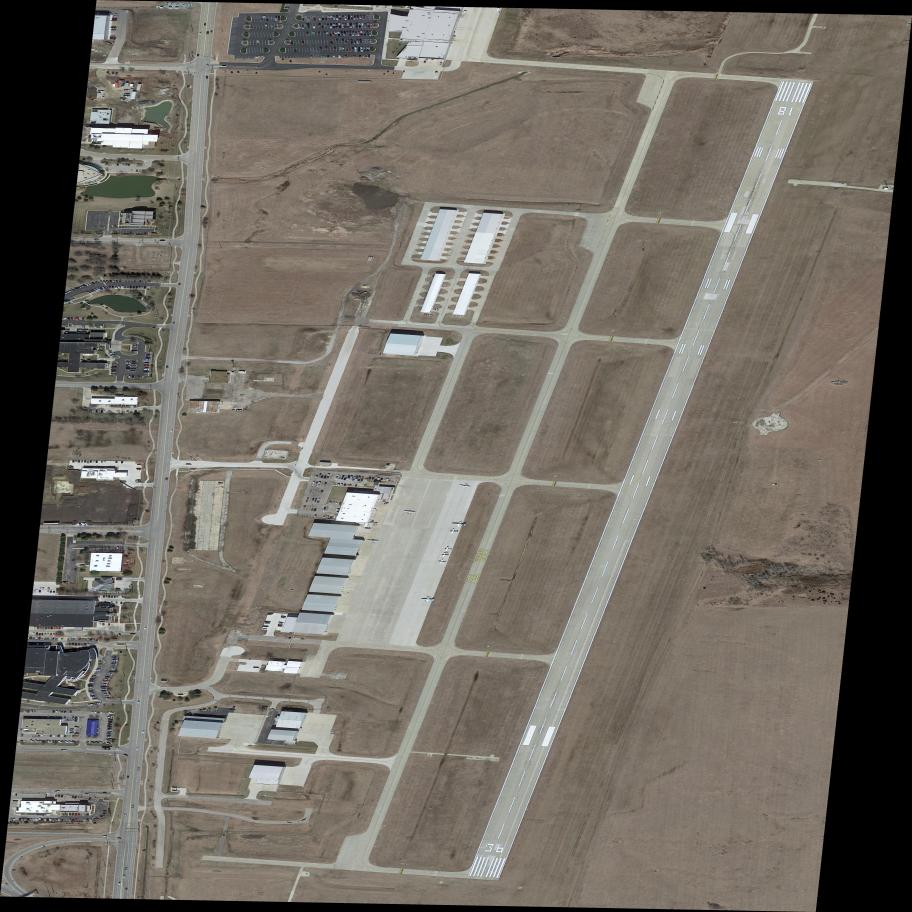plane: (450, 520, 468, 528), (420, 596, 436, 603), (458, 483, 473, 489), (366, 538, 380, 544), (436, 558, 448, 565), (448, 528, 460, 534), (443, 546, 454, 552), (440, 552, 450, 558), (403, 510, 417, 514), (431, 308, 440, 313)
small-vehicle: (383, 501, 389, 506), (29, 738, 35, 743), (373, 521, 378, 527), (94, 740, 100, 745), (106, 740, 112, 745), (123, 753, 130, 757), (85, 282, 90, 287), (99, 279, 104, 284), (72, 739, 77, 744), (463, 9, 467, 15), (76, 286, 82, 290), (91, 289, 97, 293), (86, 291, 92, 295), (67, 289, 73, 293), (96, 287, 102, 291), (64, 740, 70, 744), (98, 740, 104, 744), (67, 740, 73, 744), (116, 836, 122, 840), (106, 736, 113, 739), (106, 715, 113, 718), (98, 815, 105, 818), (105, 734, 112, 737), (106, 727, 113, 730), (108, 352, 115, 355), (317, 483, 321, 488), (314, 474, 318, 479), (439, 61, 443, 66), (423, 59, 427, 64), (99, 287, 104, 291), (91, 281, 96, 285), (70, 288, 75, 292), (88, 282, 93, 286), (314, 497, 318, 502), (93, 288, 98, 292), (101, 286, 106, 290), (57, 739, 62, 743), (38, 739, 43, 743), (34, 739, 39, 743), (124, 866, 128, 871), (42, 739, 47, 743), (107, 730, 112, 734), (90, 740, 95, 744), (110, 711, 115, 715), (106, 737, 111, 741), (78, 522, 82, 527), (82, 522, 86, 527), (73, 287, 79, 290), (77, 285, 83, 288), (96, 90, 105, 92), (69, 731, 75, 734), (106, 732, 112, 735), (106, 729, 112, 732), (95, 817, 101, 820), (107, 724, 113, 727), (107, 722, 113, 725), (107, 720, 113, 723), (54, 790, 60, 793), (110, 354, 116, 357), (345, 477, 349, 481), (323, 475, 327, 479), (320, 475, 324, 479), (313, 500, 317, 504), (317, 497, 321, 501), (341, 25, 345, 29), (329, 25, 333, 29), (363, 528, 371, 530), (108, 285, 112, 289), (95, 280, 99, 284), (106, 279, 110, 283), (311, 497, 315, 501), (325, 509, 329, 513), (322, 509, 326, 513), (368, 476, 372, 480), (313, 508, 317, 512), (264, 621, 272, 623), (344, 55, 348, 59), (101, 94, 105, 98), (357, 46, 361, 50), (57, 734, 61, 738), (54, 740, 58, 744), (86, 637, 90, 641), (328, 472, 331, 477), (82, 284, 87, 287), (80, 285, 85, 288), (89, 290, 94, 293), (65, 291, 70, 294), (93, 818, 98, 821), (120, 286, 125, 289), (123, 95, 130, 97), (106, 673, 113, 675), (61, 749, 68, 751), (102, 693, 109, 695), (90, 696, 97, 698), (89, 694, 96, 696), (89, 695, 96, 697), (101, 688, 108, 690), (87, 686, 94, 688), (105, 697, 112, 699), (87, 684, 94, 686), (101, 835, 108, 837), (106, 726, 113, 728), (144, 365, 151, 367), (144, 360, 151, 362), (94, 669, 101, 671), (112, 657, 119, 659), (337, 482, 340, 486), (355, 478, 358, 482), (377, 477, 381, 480), (356, 475, 359, 479), (353, 475, 356, 479), (335, 476, 338, 480), (336, 473, 339, 477), (346, 483, 349, 487), (315, 481, 319, 484), (318, 481, 322, 484), (423, 314, 429, 316), (429, 315, 435, 317), (338, 23, 342, 26), (312, 26, 316, 29), (357, 34, 361, 37), (311, 31, 314, 35), (357, 30, 360, 34), (317, 31, 321, 34), (344, 477, 347, 481), (111, 285, 114, 289), (105, 286, 108, 290), (103, 279, 106, 283), (109, 279, 112, 283), (112, 279, 115, 283), (136, 163, 139, 167), (339, 501, 342, 505), (317, 500, 320, 504), (322, 516, 326, 519), (381, 477, 384, 481), (305, 499, 308, 503), (262, 628, 268, 630), (263, 625, 269, 627), (265, 622, 271, 624), (324, 506, 327, 510), (279, 622, 285, 624), (310, 55, 313, 59), (264, 24, 268, 27), (255, 56, 259, 59), (124, 93, 130, 95), (319, 47, 323, 50), (137, 701, 141, 704), (106, 71, 109, 75), (110, 37, 116, 39), (112, 17, 118, 19), (341, 15, 345, 18), (339, 25, 342, 29), (350, 38, 353, 42), (330, 41, 334, 44), (357, 49, 361, 52), (340, 30, 343, 34), (349, 33, 352, 37), (63, 734, 66, 738), (74, 726, 80, 728), (142, 730, 145, 734), (49, 740, 52, 744), (88, 690, 94, 692), (88, 691, 94, 693), (69, 710, 73, 713), (63, 710, 67, 713), (108, 670, 114, 672), (108, 672, 114, 674), (105, 676, 111, 678), (89, 679, 95, 681), (88, 685, 94, 687), (102, 810, 108, 812), (74, 795, 77, 799), (72, 795, 75, 799), (55, 818, 58, 822), (49, 818, 52, 822), (102, 813, 108, 815), (270, 708, 274, 711), (118, 882, 121, 886), (72, 818, 75, 822), (61, 740, 65, 743), (69, 730, 75, 732), (13, 817, 16, 821), (10, 817, 13, 821), (79, 796, 83, 799), (89, 818, 92, 822), (131, 804, 134, 808), (137, 767, 140, 771), (110, 668, 116, 670), (114, 286, 118, 289), (145, 361, 151, 363), (131, 375, 134, 379), (131, 361, 137, 363), (165, 477, 168, 481), (111, 370, 117, 372), (172, 322, 176, 325), (62, 325, 66, 328), (94, 325, 97, 329), (81, 326, 85, 329), (76, 317, 79, 321), (145, 359, 151, 361), (166, 365, 169, 369), (90, 637, 93, 641), (86, 643, 89, 647), (92, 638, 96, 641), (96, 638, 99, 642), (49, 636, 52, 640), (113, 658, 119, 660), (96, 668, 102, 670), (97, 663, 103, 665), (79, 564, 85, 566), (278, 624, 283, 626), (281, 617, 286, 619), (284, 7, 289, 9), (112, 20, 117, 22), (89, 680, 94, 682), (92, 675, 97, 677), (35, 815, 45, 816), (108, 719, 113, 721), (69, 728, 74, 730), (341, 477, 344, 480), (349, 478, 352, 481), (387, 478, 390, 481), (338, 477, 341, 480), (349, 483, 352, 486), (329, 501, 332, 504), (327, 476, 330, 479), (319, 473, 322, 476), (303, 505, 306, 508), (312, 481, 315, 484), (311, 484, 314, 487), (324, 482, 327, 485), (335, 23, 338, 26), (302, 26, 305, 29), (324, 23, 327, 26), (333, 23, 336, 26), (364, 25, 367, 28), (370, 23, 373, 26), (299, 26, 302, 29), (360, 33, 363, 36), (354, 31, 357, 34), (352, 31, 355, 34), (334, 31, 337, 34), (325, 31, 328, 34), (129, 286, 132, 289), (139, 280, 142, 283), (119, 279, 122, 282), (138, 286, 141, 289), (144, 286, 147, 289), (122, 279, 125, 282), (314, 514, 317, 517), (307, 497, 310, 500), (321, 490, 324, 493), (372, 477, 375, 480), (361, 479, 364, 482), (125, 163, 128, 166), (130, 170, 133, 173), (358, 23, 361, 26), (352, 23, 355, 26), (256, 40, 259, 43), (249, 26, 252, 29), (271, 24, 274, 27), (274, 26, 277, 29), (327, 55, 330, 58), (353, 41, 356, 44), (339, 47, 342, 50), (342, 47, 345, 50), (353, 55, 356, 58), (368, 55, 371, 58), (197, 54, 200, 57), (204, 23, 207, 26), (266, 18, 269, 21), (294, 50, 297, 53), (324, 18, 327, 21), (336, 15, 339, 18), (313, 18, 316, 21), (367, 25, 370, 28), (347, 23, 350, 26), (356, 17, 359, 20), (359, 17, 362, 20), (344, 15, 347, 18), (350, 17, 353, 20), (338, 15, 341, 18), (327, 15, 330, 18), (316, 18, 319, 21), (307, 23, 310, 26), (302, 18, 305, 21), (344, 41, 347, 44), (360, 41, 363, 44), (318, 23, 321, 26), (336, 39, 339, 42), (345, 49, 348, 52), (367, 49, 370, 52), (307, 26, 310, 29), (321, 26, 324, 29), (333, 26, 336, 29), (338, 33, 341, 36), (343, 31, 346, 34), (366, 33, 369, 36), (363, 33, 366, 36), (49, 734, 52, 737), (75, 719, 78, 722), (72, 716, 75, 719), (63, 716, 66, 719), (54, 716, 57, 719), (47, 716, 50, 719), (41, 716, 44, 719), (72, 719, 75, 722), (69, 719, 72, 722), (66, 719, 69, 722), (21, 734, 24, 737), (29, 734, 32, 737), (40, 734, 43, 737), (97, 711, 100, 714), (94, 711, 97, 714), (91, 711, 94, 714), (55, 710, 58, 713), (52, 710, 55, 713), (88, 797, 91, 800), (61, 795, 64, 798), (38, 817, 41, 820), (32, 818, 35, 821), (125, 887, 128, 890), (122, 875, 125, 878), (41, 818, 44, 821), (77, 813, 80, 816), (72, 813, 75, 816), (35, 818, 38, 821), (27, 818, 30, 821), (87, 818, 90, 821), (24, 818, 27, 821), (21, 818, 24, 821), (77, 796, 80, 799), (126, 776, 129, 779), (82, 813, 85, 816), (95, 410, 98, 413), (101, 410, 104, 413), (89, 409, 92, 412), (72, 460, 75, 463), (105, 405, 108, 408), (100, 460, 103, 463), (92, 460, 95, 463), (170, 429, 173, 432), (100, 325, 103, 328), (79, 317, 82, 320), (73, 317, 76, 320), (70, 317, 73, 320), (64, 317, 67, 320), (141, 286, 144, 289), (117, 286, 120, 289), (128, 375, 131, 378), (38, 633, 41, 636), (37, 643, 40, 646), (78, 637, 81, 640), (75, 637, 78, 640), (69, 637, 72, 640), (38, 636, 41, 639), (83, 643, 86, 646), (120, 602, 123, 605), (105, 595, 108, 598), (102, 595, 105, 598), (74, 568, 77, 571), (32, 632, 35, 635), (39, 627, 42, 630), (33, 626, 36, 629), (108, 623, 111, 626), (102, 623, 105, 626), (39, 587, 42, 590), (335, 502, 339, 504), (351, 34, 355, 36), (354, 34, 358, 36), (143, 280, 145, 284), (121, 164, 125, 166), (206, 64, 210, 66), (359, 54, 361, 58), (362, 18, 366, 20), (369, 34, 373, 36), (53, 734, 55, 738), (101, 690, 109, 691), (58, 794, 60, 798), (53, 818, 55, 822), (44, 818, 46, 822), (110, 367, 118, 368), (30, 636, 32, 640), (115, 579, 123, 580), (47, 632, 49, 636), (44, 632, 46, 636), (267, 613, 274, 614), (123, 90, 130, 91), (104, 696, 111, 697), (100, 686, 107, 687), (89, 678, 96, 679), (84, 794, 91, 795), (110, 667, 117, 668), (145, 357, 152, 358), (143, 370, 150, 371), (143, 372, 150, 373), (111, 363, 118, 364), (124, 369, 131, 370), (143, 363, 150, 364), (115, 588, 122, 589), (341, 483, 343, 486), (353, 478, 355, 481), (362, 476, 364, 479), (359, 476, 361, 479), (350, 476, 353, 478), (344, 483, 346, 486), (332, 502, 335, 504), (336, 18, 339, 20), (333, 18, 336, 20), (304, 24, 307, 26), (342, 23, 344, 26), (362, 25, 364, 28), (370, 26, 373, 28), (367, 23, 370, 25), (346, 34, 349, 36), (343, 34, 346, 36), (360, 31, 362, 34), (337, 32, 340, 34), (348, 475, 350, 478), (116, 280, 119, 282), (133, 286, 135, 289), (135, 286, 137, 289), (179, 283, 181, 286), (67, 317, 69, 320), (159, 240, 165, 241), (93, 239, 99, 240), (311, 509, 314, 511), (355, 484, 357, 487), (128, 164, 131, 166), (117, 163, 119, 166), (281, 616, 287, 617), (267, 614, 273, 615), (362, 23, 364, 26), (353, 26, 356, 28), (321, 56, 324, 58), (291, 42, 293, 45), (275, 18, 277, 21), (263, 16, 266, 18), (274, 16, 277, 18), (260, 19, 263, 21), (332, 56, 335, 58), (339, 55, 341, 58), (349, 50, 352, 52), (356, 42, 359, 44), (325, 47, 328, 49), (334, 47, 336, 50), (361, 49, 363, 52), (361, 46, 363, 49), (354, 47, 357, 49), (367, 47, 370, 49), (362, 55, 365, 57), (206, 32, 209, 34), (302, 42, 304, 45), (199, 33, 202, 35), (136, 170, 139, 172), (113, 14, 119, 15), (206, 76, 208, 79), (126, 76, 132, 77), (116, 72, 118, 75), (112, 72, 115, 74), (110, 39, 116, 40), (111, 27, 117, 28), (109, 12, 111, 15), (112, 15, 118, 16), (333, 15, 335, 18), (339, 18, 342, 20), (321, 18, 324, 20), (363, 15, 365, 18), (350, 23, 352, 26), (359, 25, 361, 28), (356, 26, 359, 28), (359, 15, 362, 17), (348, 18, 351, 20), (344, 26, 347, 28), (350, 26, 352, 29), (330, 16, 333, 18), (319, 18, 321, 21), (308, 18, 310, 21), (347, 26, 350, 28), (364, 49, 366, 52), (359, 39, 362, 41), (356, 39, 359, 41), (347, 39, 350, 41), (351, 47, 354, 49), (336, 26, 339, 28), (306, 32, 309, 34), (323, 31, 325, 34), (346, 31, 349, 33), (327, 23, 329, 26), (366, 31, 369, 33), (369, 31, 372, 33), (330, 23, 332, 26), (75, 716, 77, 719), (103, 711, 105, 714), (100, 712, 103, 714), (114, 747, 120, 748), (92, 699, 98, 700), (88, 689, 94, 690), (102, 684, 108, 685), (89, 682, 95, 683), (61, 710, 63, 713), (58, 711, 61, 713), (34, 710, 36, 713), (30, 710, 32, 713), (24, 710, 27, 712), (75, 819, 78, 821), (69, 813, 71, 816), (69, 819, 72, 821), (58, 819, 61, 821), (47, 818, 49, 821), (61, 819, 64, 821), (87, 813, 89, 816), (75, 813, 77, 816), (30, 818, 32, 821), (19, 818, 21, 821), (84, 819, 86, 822), (124, 814, 127, 816), (104, 679, 110, 680), (145, 358, 151, 359), (138, 376, 141, 378), (110, 374, 116, 375), (125, 368, 131, 369), (126, 367, 132, 368), (125, 364, 131, 365), (125, 365, 131, 366), (115, 461, 118, 463), (95, 461, 98, 463), (90, 460, 92, 463), (84, 460, 86, 463), (78, 460, 80, 463), (136, 464, 142, 465), (103, 461, 106, 463), (81, 460, 83, 463), (75, 460, 77, 463), (126, 410, 128, 413), (111, 369, 117, 370), (83, 317, 85, 320), (131, 344, 137, 345), (132, 346, 138, 347), (111, 366, 117, 367), (143, 373, 149, 374), (125, 363, 131, 364), (125, 361, 131, 362), (111, 365, 117, 366), (111, 372, 117, 373), (143, 369, 149, 370), (144, 368, 150, 369), (218, 482, 224, 483), (41, 633, 44, 635), (36, 632, 38, 635), (45, 626, 47, 629), (111, 665, 117, 666), (111, 664, 117, 665), (112, 662, 118, 663), (112, 661, 118, 662), (130, 633, 136, 634), (112, 656, 118, 657), (78, 643, 80, 646), (75, 643, 77, 646), (68, 643, 70, 646), (53, 637, 55, 640), (35, 637, 38, 639), (111, 595, 113, 598), (53, 590, 55, 593), (121, 596, 124, 598), (116, 596, 119, 598), (114, 595, 116, 598), (109, 595, 111, 598), (39, 590, 41, 593), (72, 560, 78, 561), (50, 590, 52, 593), (53, 633, 55, 636), (37, 626, 39, 629), (48, 627, 50, 630), (145, 627, 147, 630), (99, 623, 101, 626), (33, 590, 35, 593), (42, 588, 45, 590), (278, 626, 283, 627), (278, 623, 283, 624), (110, 36, 115, 37), (111, 28, 116, 29), (112, 17, 117, 18), (75, 733, 80, 734), (89, 693, 94, 694), (91, 677, 96, 678), (130, 371, 135, 372), (125, 370, 130, 371), (132, 368, 137, 369), (132, 364, 137, 365), (146, 356, 151, 357), (113, 660, 118, 661), (363, 31, 365, 33), (343, 475, 345, 477), (134, 280, 136, 282), (358, 479, 360, 481), (317, 50, 319, 52), (355, 50, 357, 52), (364, 47, 366, 49), (113, 19, 117, 20), (211, 30, 213, 32), (357, 15, 359, 17), (348, 15, 350, 17), (331, 18, 333, 20), (356, 23, 358, 25), (364, 23, 366, 25), (351, 15, 353, 17), (345, 18, 347, 20), (354, 18, 356, 20), (342, 39, 344, 41), (349, 31, 351, 33), (329, 34, 331, 36), (137, 748, 139, 750), (38, 735, 40, 737), (27, 710, 29, 712), (121, 461, 123, 463), (51, 627, 53, 629), (58, 627, 60, 629), (56, 627, 58, 629), (53, 627, 55, 629), (72, 643, 74, 645), (117, 547, 119, 549), (111, 602, 113, 604), (115, 602, 117, 604), (47, 590, 49, 592), (50, 633, 52, 635), (61, 627, 63, 629), (47, 588, 49, 590), (345, 23, 346, 26), (355, 15, 356, 18), (52, 716, 53, 719), (112, 20, 117, 20), (146, 355, 152, 355)
